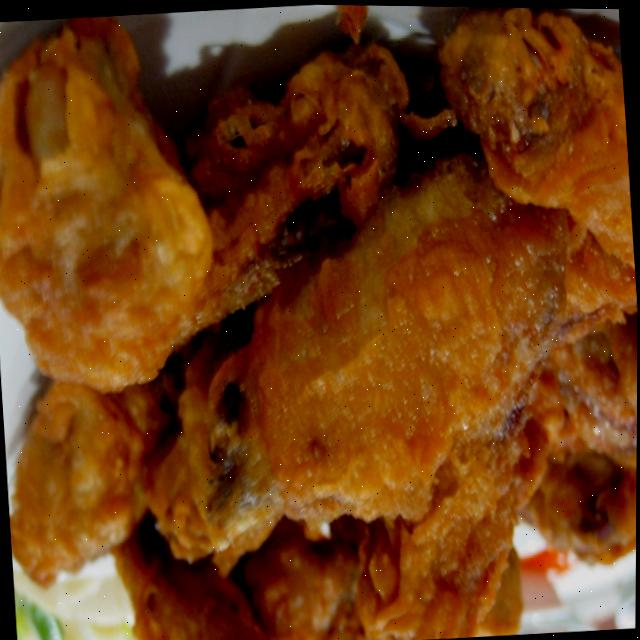鸡肉料理 含炸鸡: (2, 11, 611, 631)
